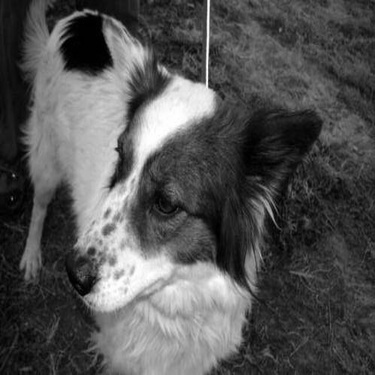dog: (13, 8, 332, 371)
